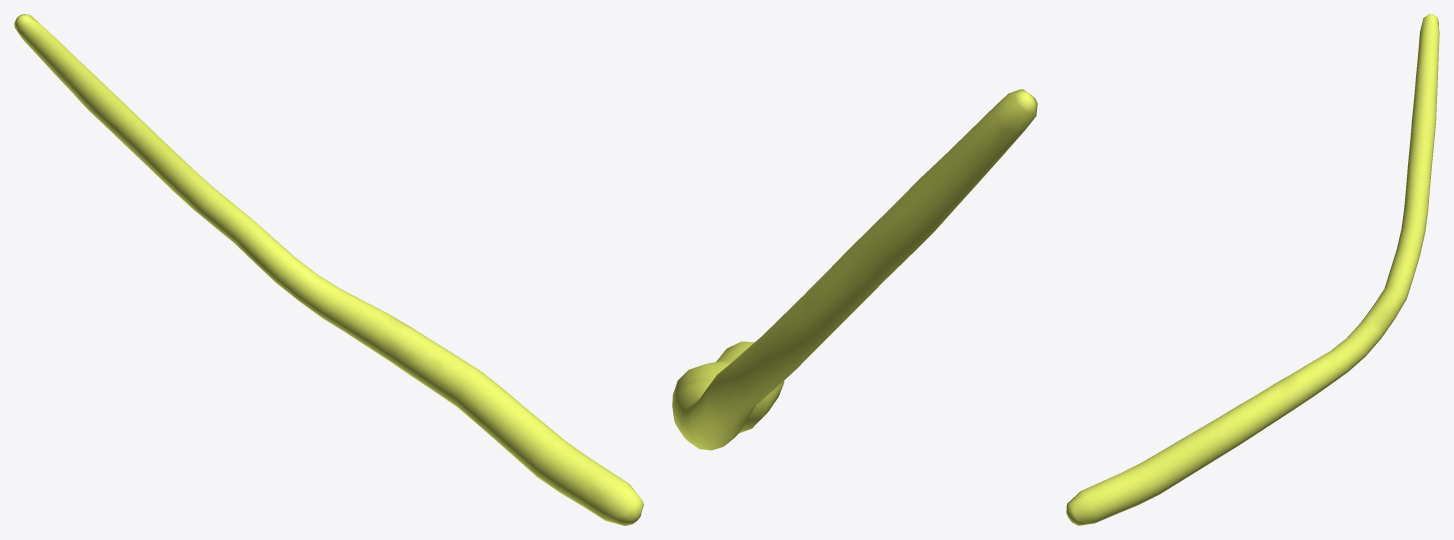
The model's file is CN II - Optic Nerve.glb.
3 renders of one model, left to right at view 1: azimuth 30°, elevation 25°; view 2: azimuth 150°, elevation 25°; view 3: azimuth 270°, elevation 25°, orthographic. The views are drawn at different scales.
Visible parts, largest first — view 1: CN II - Optic Nerve.glb; view 2: CN II - Optic Nerve.glb; view 3: CN II - Optic Nerve.glb.
Part boxes in pixels (x1,y1,x2,y2): CN II - Optic Nerve.glb: (14,14,643,525); CN II - Optic Nerve.glb: (672,89,1037,450); CN II - Optic Nerve.glb: (1066,14,1439,525).
Bounding box in the file's own units: 0.0465 × 0.0483 × 0.0456.
Materials: 1 (1 with a texture image).
